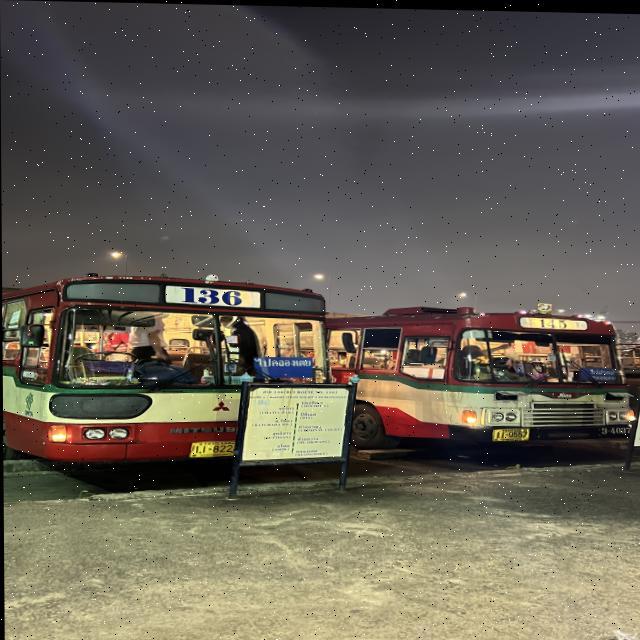BMTA-bus: (2, 275, 348, 480), (328, 301, 639, 447)
Bus Line Number: (171, 282, 252, 307), (535, 314, 571, 329), (597, 421, 633, 435)
Destination Sign: (252, 353, 313, 377), (575, 363, 622, 379)
